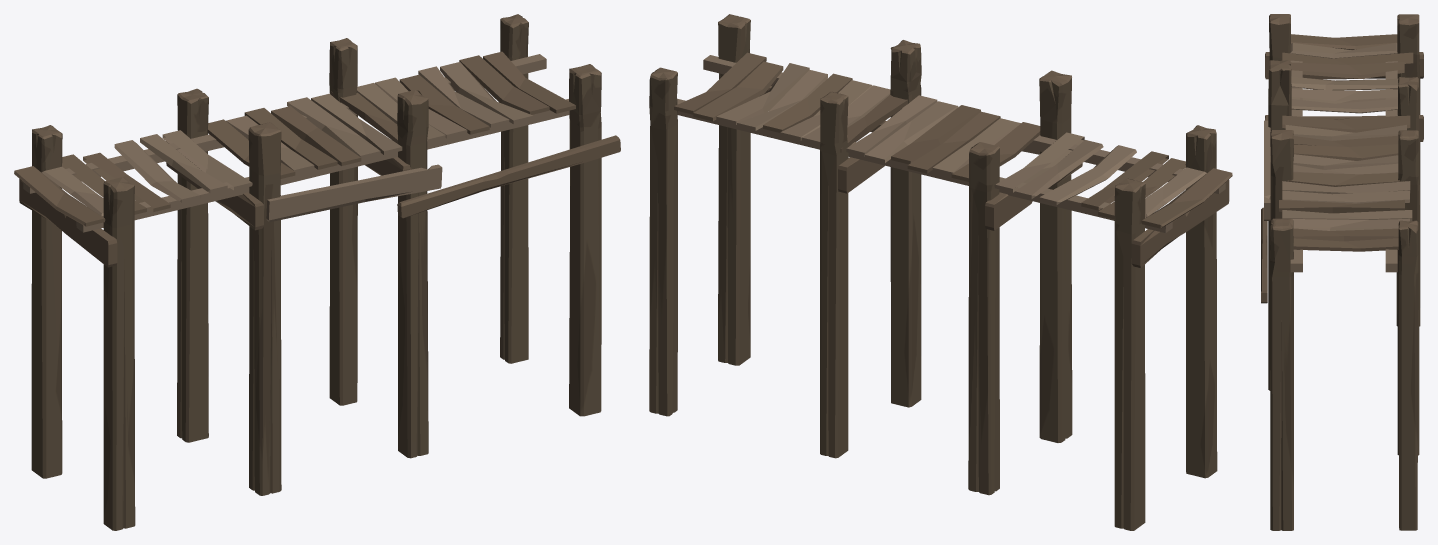
The model's file is env_structure3.gltf.
3 renders of one model, left to right at view 1: azimuth 30°, elevation 25°; view 2: azimuth 150°, elevation 25°; view 3: azimuth 270°, elevation 25°, orthographic. The views are drawn at different scales.
Visible parts, largest first — view 1: env_structure3; view 2: env_structure3; view 3: env_structure3.
Boxes of the visible parts, left/top/right/bottom form: env_structure3: left=14, top=14, right=620, bottom=530; env_structure3: left=649, top=14, right=1232, bottom=530; env_structure3: left=1261, top=14, right=1423, bottom=530.
Size of the model in its own units: 5.51 by 3.63 by 1.66.
1 material, 1 textured.
